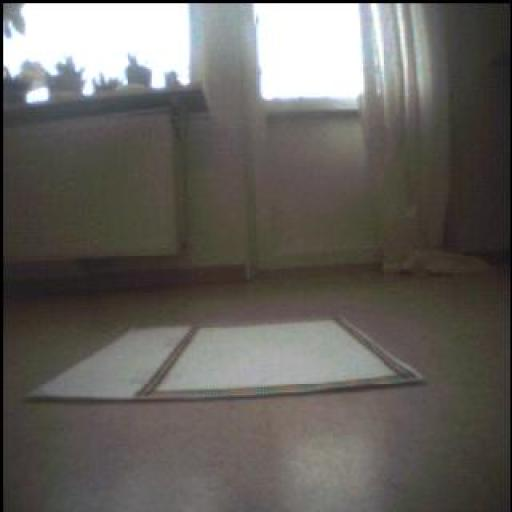Pad: (33, 318, 413, 400)
